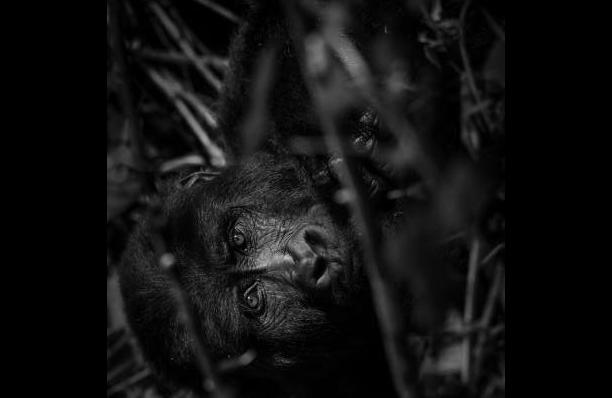goriile_montagne: (115, 126, 365, 398)
